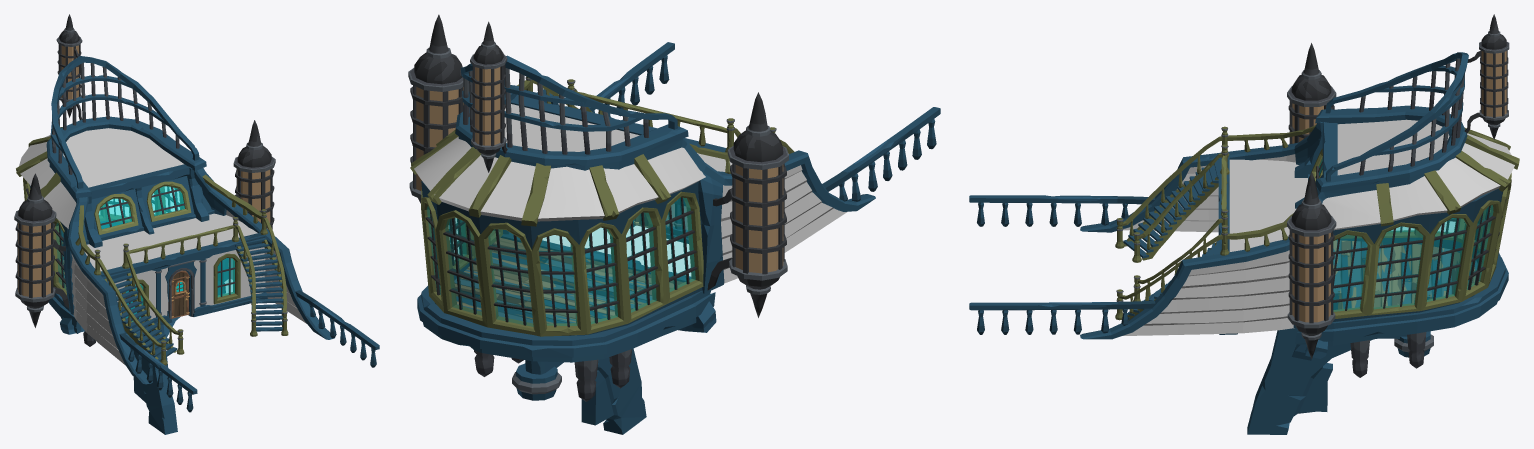
Rendered from SM_Veh_Ship_L_Back_01.fbx.
3 renders of one model, left to right at view 1: azimuth 30°, elevation 25°; view 2: azimuth 150°, elevation 25°; view 3: azimuth 270°, elevation 25°, orthographic. The views are drawn at different scales.
Visible parts, largest first — view 1: SM_Veh_Ship_L_Back_01; view 2: SM_Veh_Ship_L_Back_01; view 3: SM_Veh_Ship_L_Back_01.
Part boxes in pixels (<box>): SM_Veh_Ship_L_Back_01: <box>14,14,379,434</box>; SM_Veh_Ship_L_Back_01: <box>408,14,940,434</box>; SM_Veh_Ship_L_Back_01: <box>969,14,1519,434</box>.
Bounding box in the file's own units: 1354 × 1752 × 2094.
